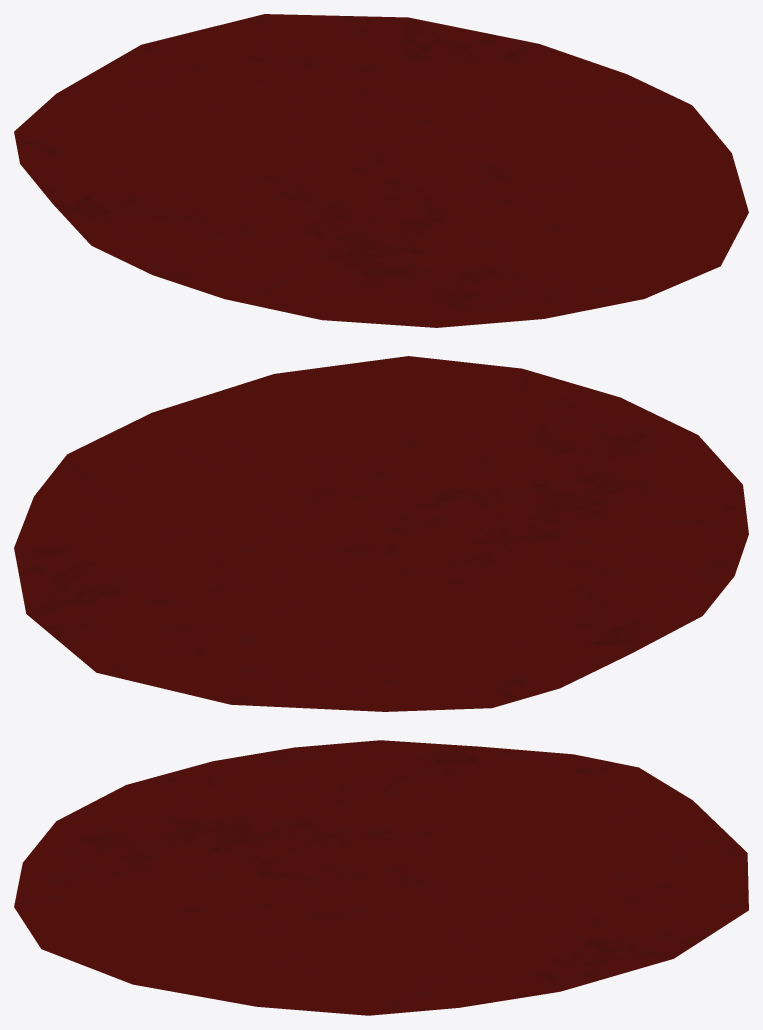
Rendered from SM_Blood2.fbx.
3 renders of one model, top to bottom at view 1: azimuth 30°, elevation 25°; view 2: azimuth 150°, elevation 25°; view 3: azimuth 270°, elevation 25°, orthographic. The views are drawn at different scales.
Visible parts, largest first — view 1: SM_Blood2; view 2: SM_Blood2; view 3: SM_Blood2.
Part boxes in pixels (x1,y1,x2,y2): SM_Blood2: [14, 14, 748, 327]; SM_Blood2: [14, 356, 748, 711]; SM_Blood2: [14, 740, 748, 1015].
Bounding box in the file's own units: 19.97 × 0 × 22.52.
Materials: 1 (1 with a texture image).
